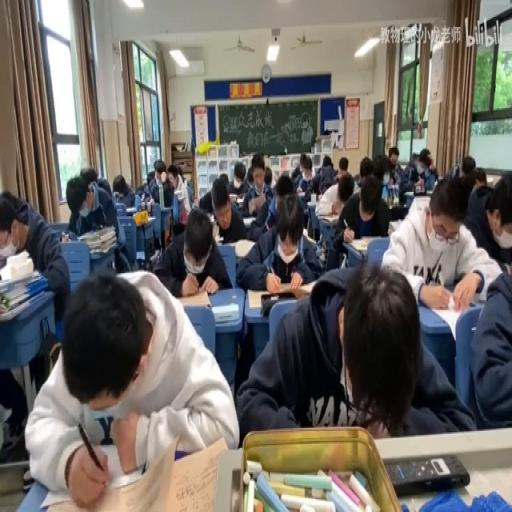calculator: (422, 296, 480, 343), (246, 283, 314, 310), (166, 286, 212, 307), (210, 300, 238, 322), (233, 236, 257, 258), (408, 194, 430, 218), (130, 214, 157, 228), (300, 228, 318, 248), (348, 238, 370, 252), (298, 279, 318, 294), (148, 249, 160, 269), (211, 219, 221, 242), (318, 212, 340, 222), (315, 243, 326, 259), (486, 175, 499, 186), (242, 214, 256, 224), (388, 219, 398, 233), (228, 193, 240, 202), (306, 196, 316, 206), (388, 182, 398, 192), (424, 186, 434, 194), (125, 205, 136, 212), (296, 189, 304, 196), (208, 213, 214, 222), (404, 191, 414, 196)
paper: (26, 266, 236, 506), (235, 259, 470, 438), (381, 174, 501, 310), (0, 191, 69, 337), (234, 188, 320, 288), (467, 260, 512, 430), (152, 205, 230, 297), (65, 169, 128, 272), (326, 171, 390, 267), (0, 366, 27, 450), (399, 145, 436, 192), (146, 160, 174, 206), (308, 154, 338, 196), (110, 174, 136, 208), (226, 161, 248, 196), (384, 144, 402, 182), (274, 174, 294, 204), (458, 170, 476, 200), (336, 173, 354, 202), (134, 174, 152, 200), (0, 189, 19, 213), (358, 156, 372, 182), (462, 154, 476, 176), (250, 152, 265, 172), (96, 176, 110, 196), (473, 165, 486, 185), (80, 166, 94, 184), (300, 154, 312, 174), (291, 165, 302, 186), (244, 166, 254, 185), (263, 165, 272, 186), (427, 164, 438, 180), (408, 165, 418, 182), (218, 170, 229, 184), (174, 164, 184, 179), (338, 155, 347, 171), (146, 169, 155, 182), (453, 161, 460, 176), (411, 155, 421, 165), (134, 193, 140, 209)
person: (386, 452, 470, 494), (230, 468, 242, 510), (412, 182, 426, 193), (140, 199, 150, 213), (112, 189, 119, 199)
